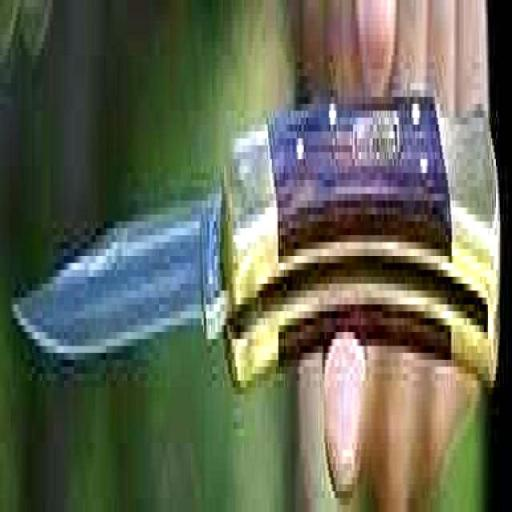knife: (9, 75, 503, 405)
